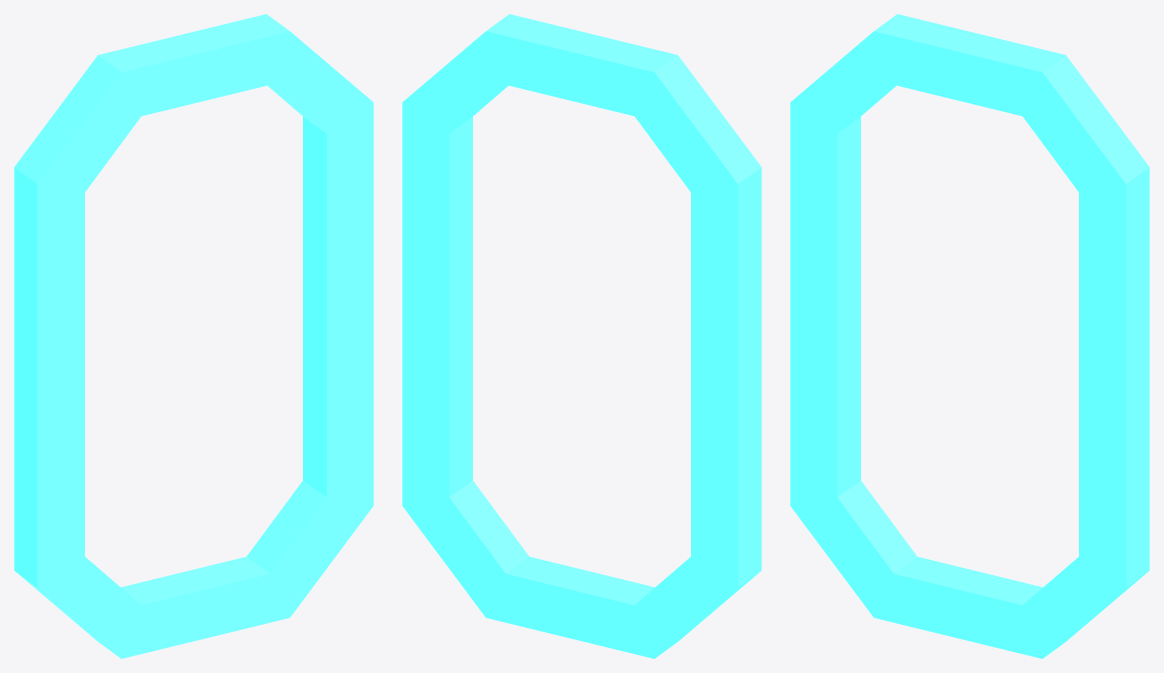
Rendered from Number_0_LODGroup.fbx.
3 renders of one model, left to right at view 1: azimuth 30°, elevation 25°; view 2: azimuth 150°, elevation 25°; view 3: azimuth 330°, elevation 25°, orthographic.
Parts seen in each view (by area): view 1: Number 0_LOD0; view 2: Number 0_LOD0; view 3: Number 0_LOD0.
Part boxes in pixels (x1,y1,x2,y2): Number 0_LOD0: [14, 14, 373, 658]; Number 0_LOD0: [402, 14, 761, 658]; Number 0_LOD0: [790, 14, 1149, 658].
Size of what is drawn, in the model's own units: 11.98 by 20 by 1.45.
